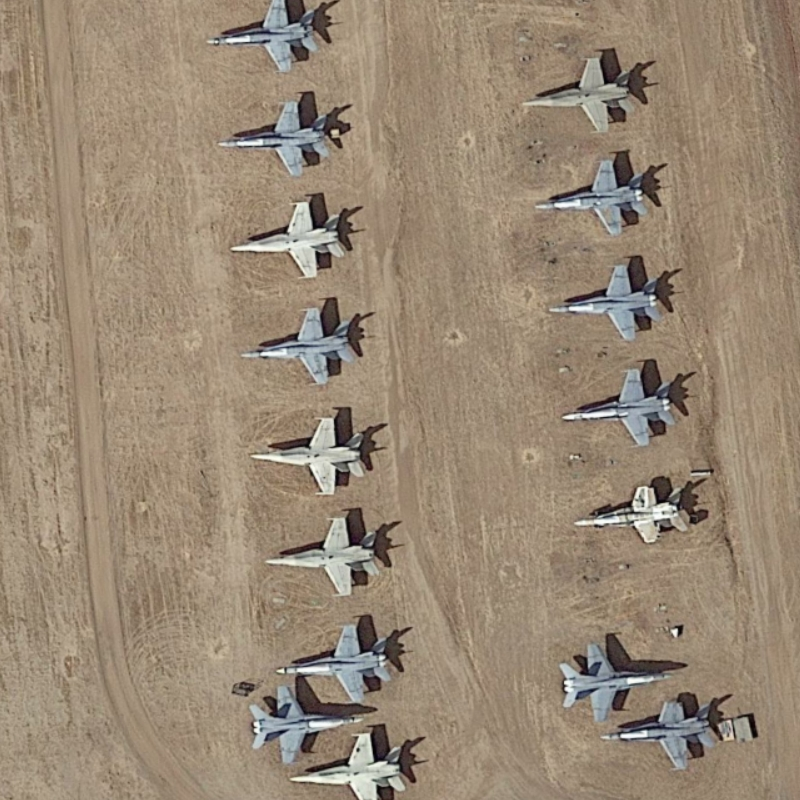A16: (542, 255, 678, 348), (214, 92, 351, 183), (516, 47, 652, 138), (539, 633, 680, 720), (262, 510, 396, 601), (246, 413, 382, 502), (225, 195, 356, 287), (273, 616, 404, 707), (558, 357, 683, 450), (530, 154, 662, 240), (240, 300, 367, 387), (568, 472, 709, 550), (239, 684, 368, 766), (599, 695, 737, 771), (201, 1, 329, 80), (287, 728, 422, 800)
